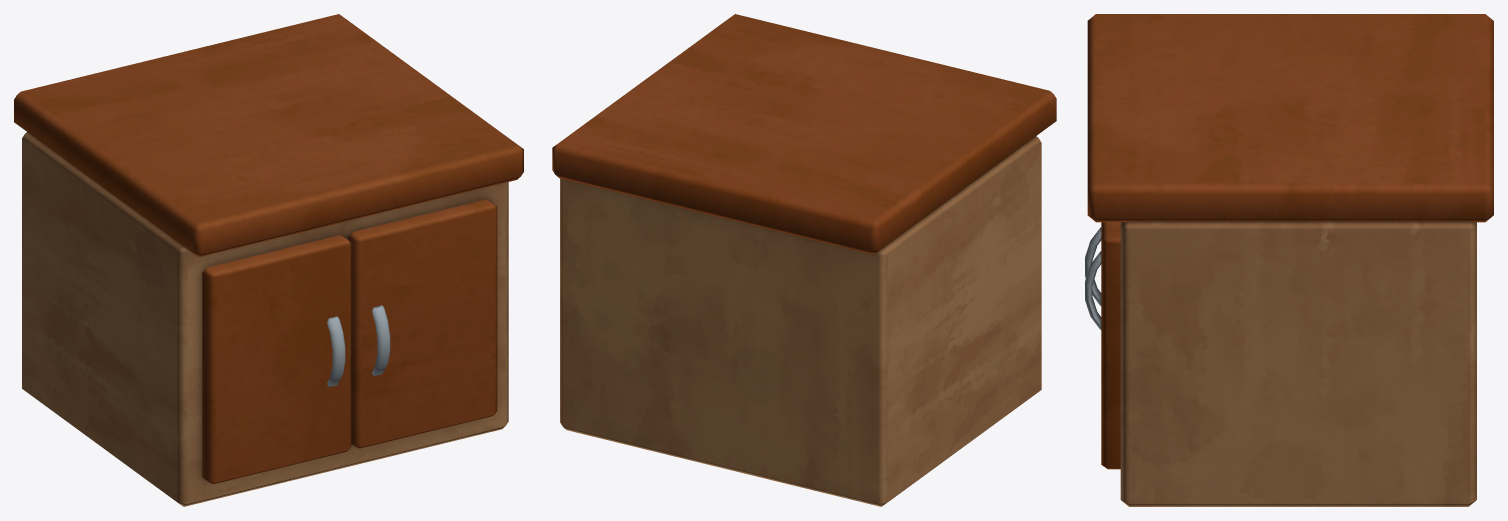
The model's file is ClearCounter_Visual.glb.
3 renders of one model, left to right at view 1: azimuth 30°, elevation 25°; view 2: azimuth 150°, elevation 25°; view 3: azimuth 270°, elevation 25°, orthographic. The views are drawn at different scales.
Visible parts, largest first — view 1: KitchenCounter; view 2: KitchenCounter; view 3: KitchenCounter.
Boxes of the visible parts, bbox=[...] form: KitchenCounter: bbox=[14, 14, 523, 506]; KitchenCounter: bbox=[552, 14, 1056, 506]; KitchenCounter: bbox=[1085, 14, 1493, 506].
Bounding box in the file's own units: 1.48 × 1.26 × 1.45.
1 material, 1 textured.
